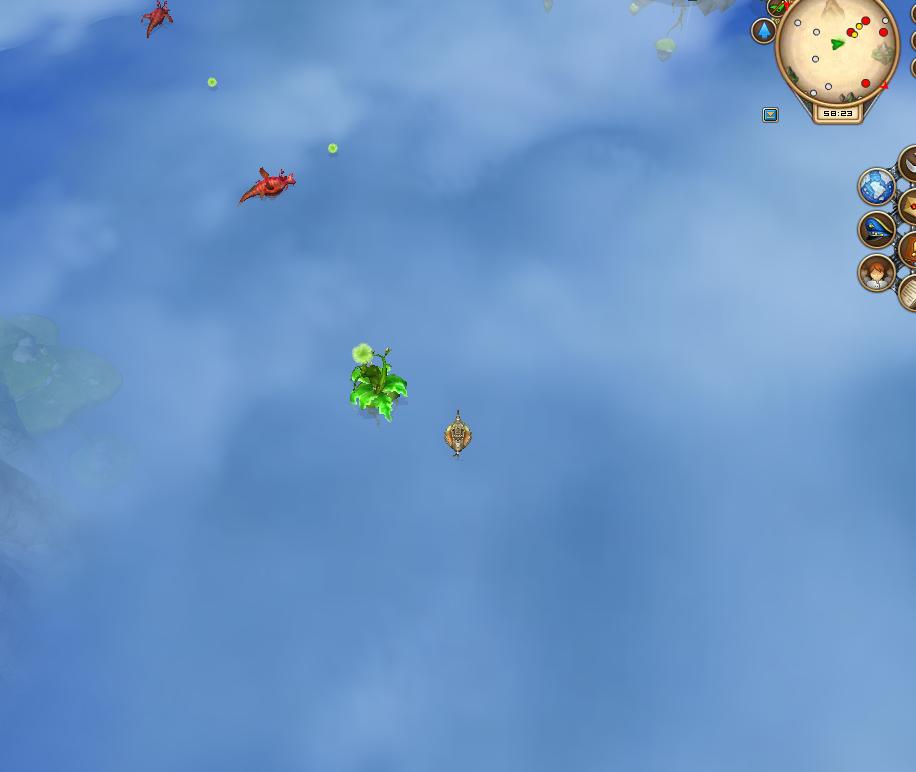dandelion-full: (341, 336, 413, 429)
fluff: (323, 137, 341, 159), (204, 73, 221, 93)
